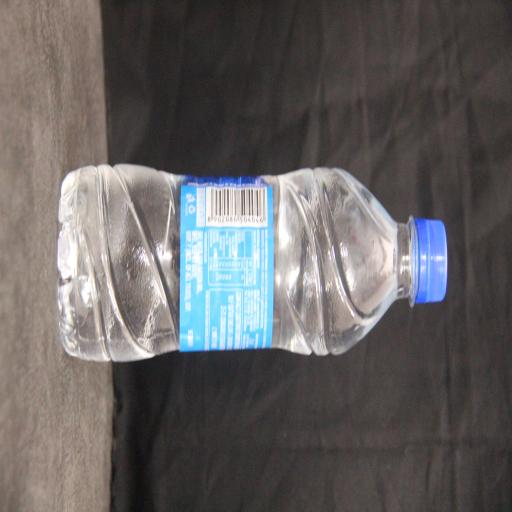Aquafina: (112, 97, 237, 512)
